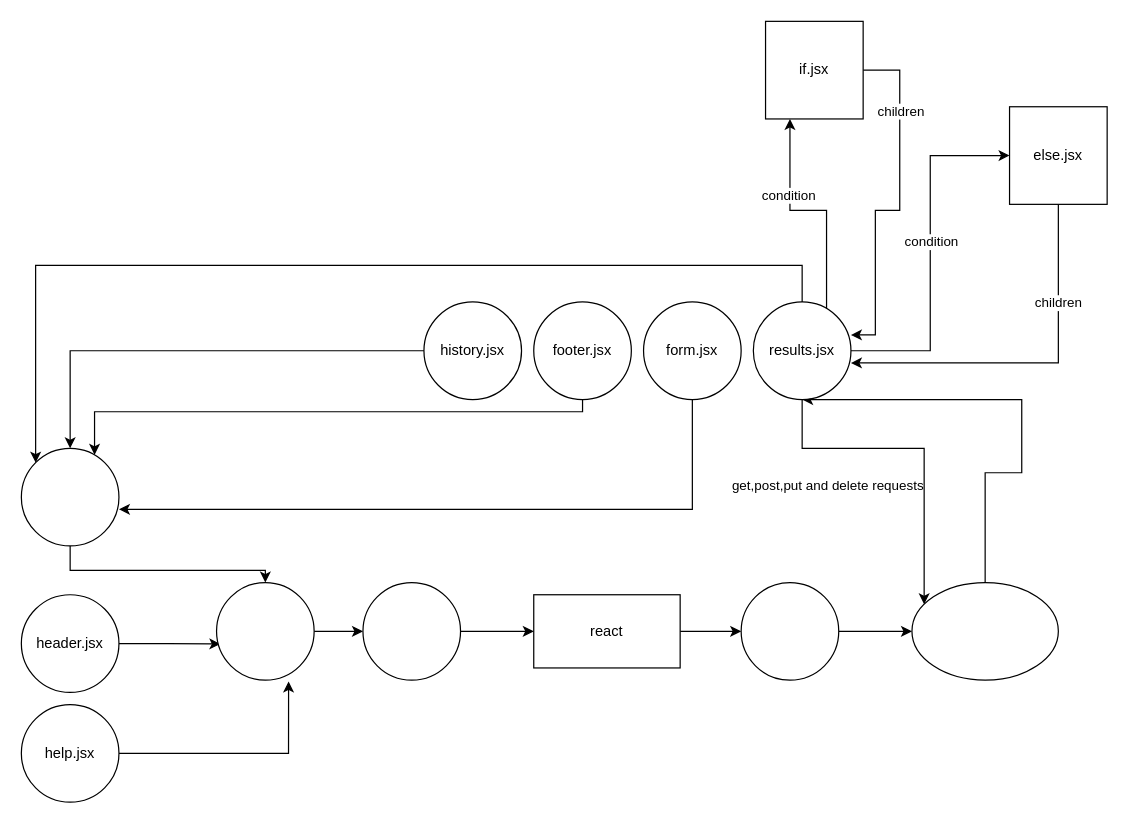
Image size: 1129x824. Some labels were removed from this diagram. Here are the shapes that lost their labels. From the top down, the centre of each, then its label:
At point (69, 496): "home.jsx".
At point (264, 630): "app.jsx".
At point (411, 630): "index.js".
At point (789, 630): "index.html".
At point (984, 630): "UI".
